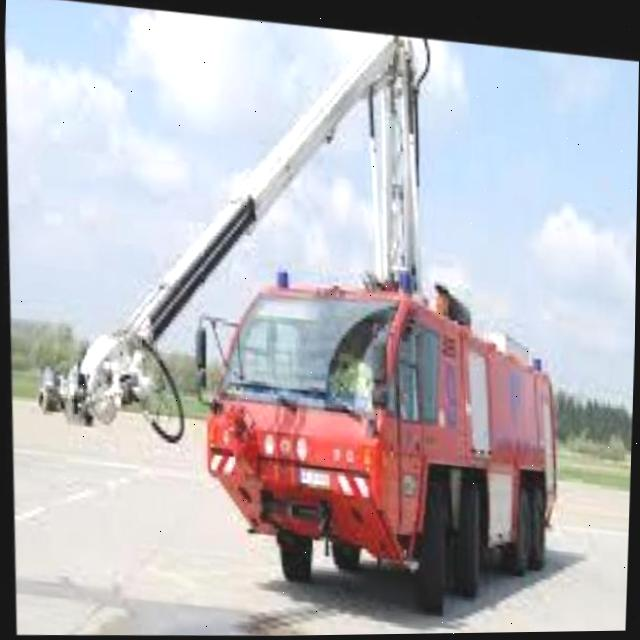emergency: (196, 268, 589, 612)
